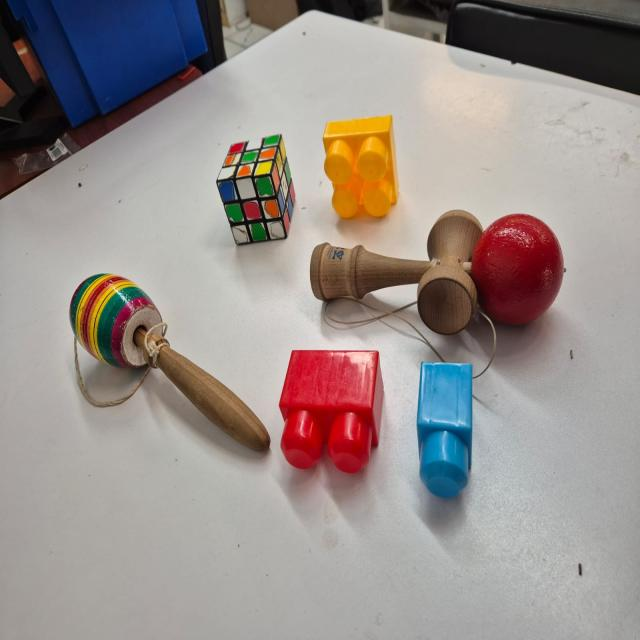balero: (69, 269, 273, 454)
balero ball: (309, 208, 565, 380)
lego 2: (278, 349, 387, 475)
lego 4: (322, 114, 398, 220)
lego_1: (416, 359, 474, 498)
rubick: (215, 134, 298, 247)
